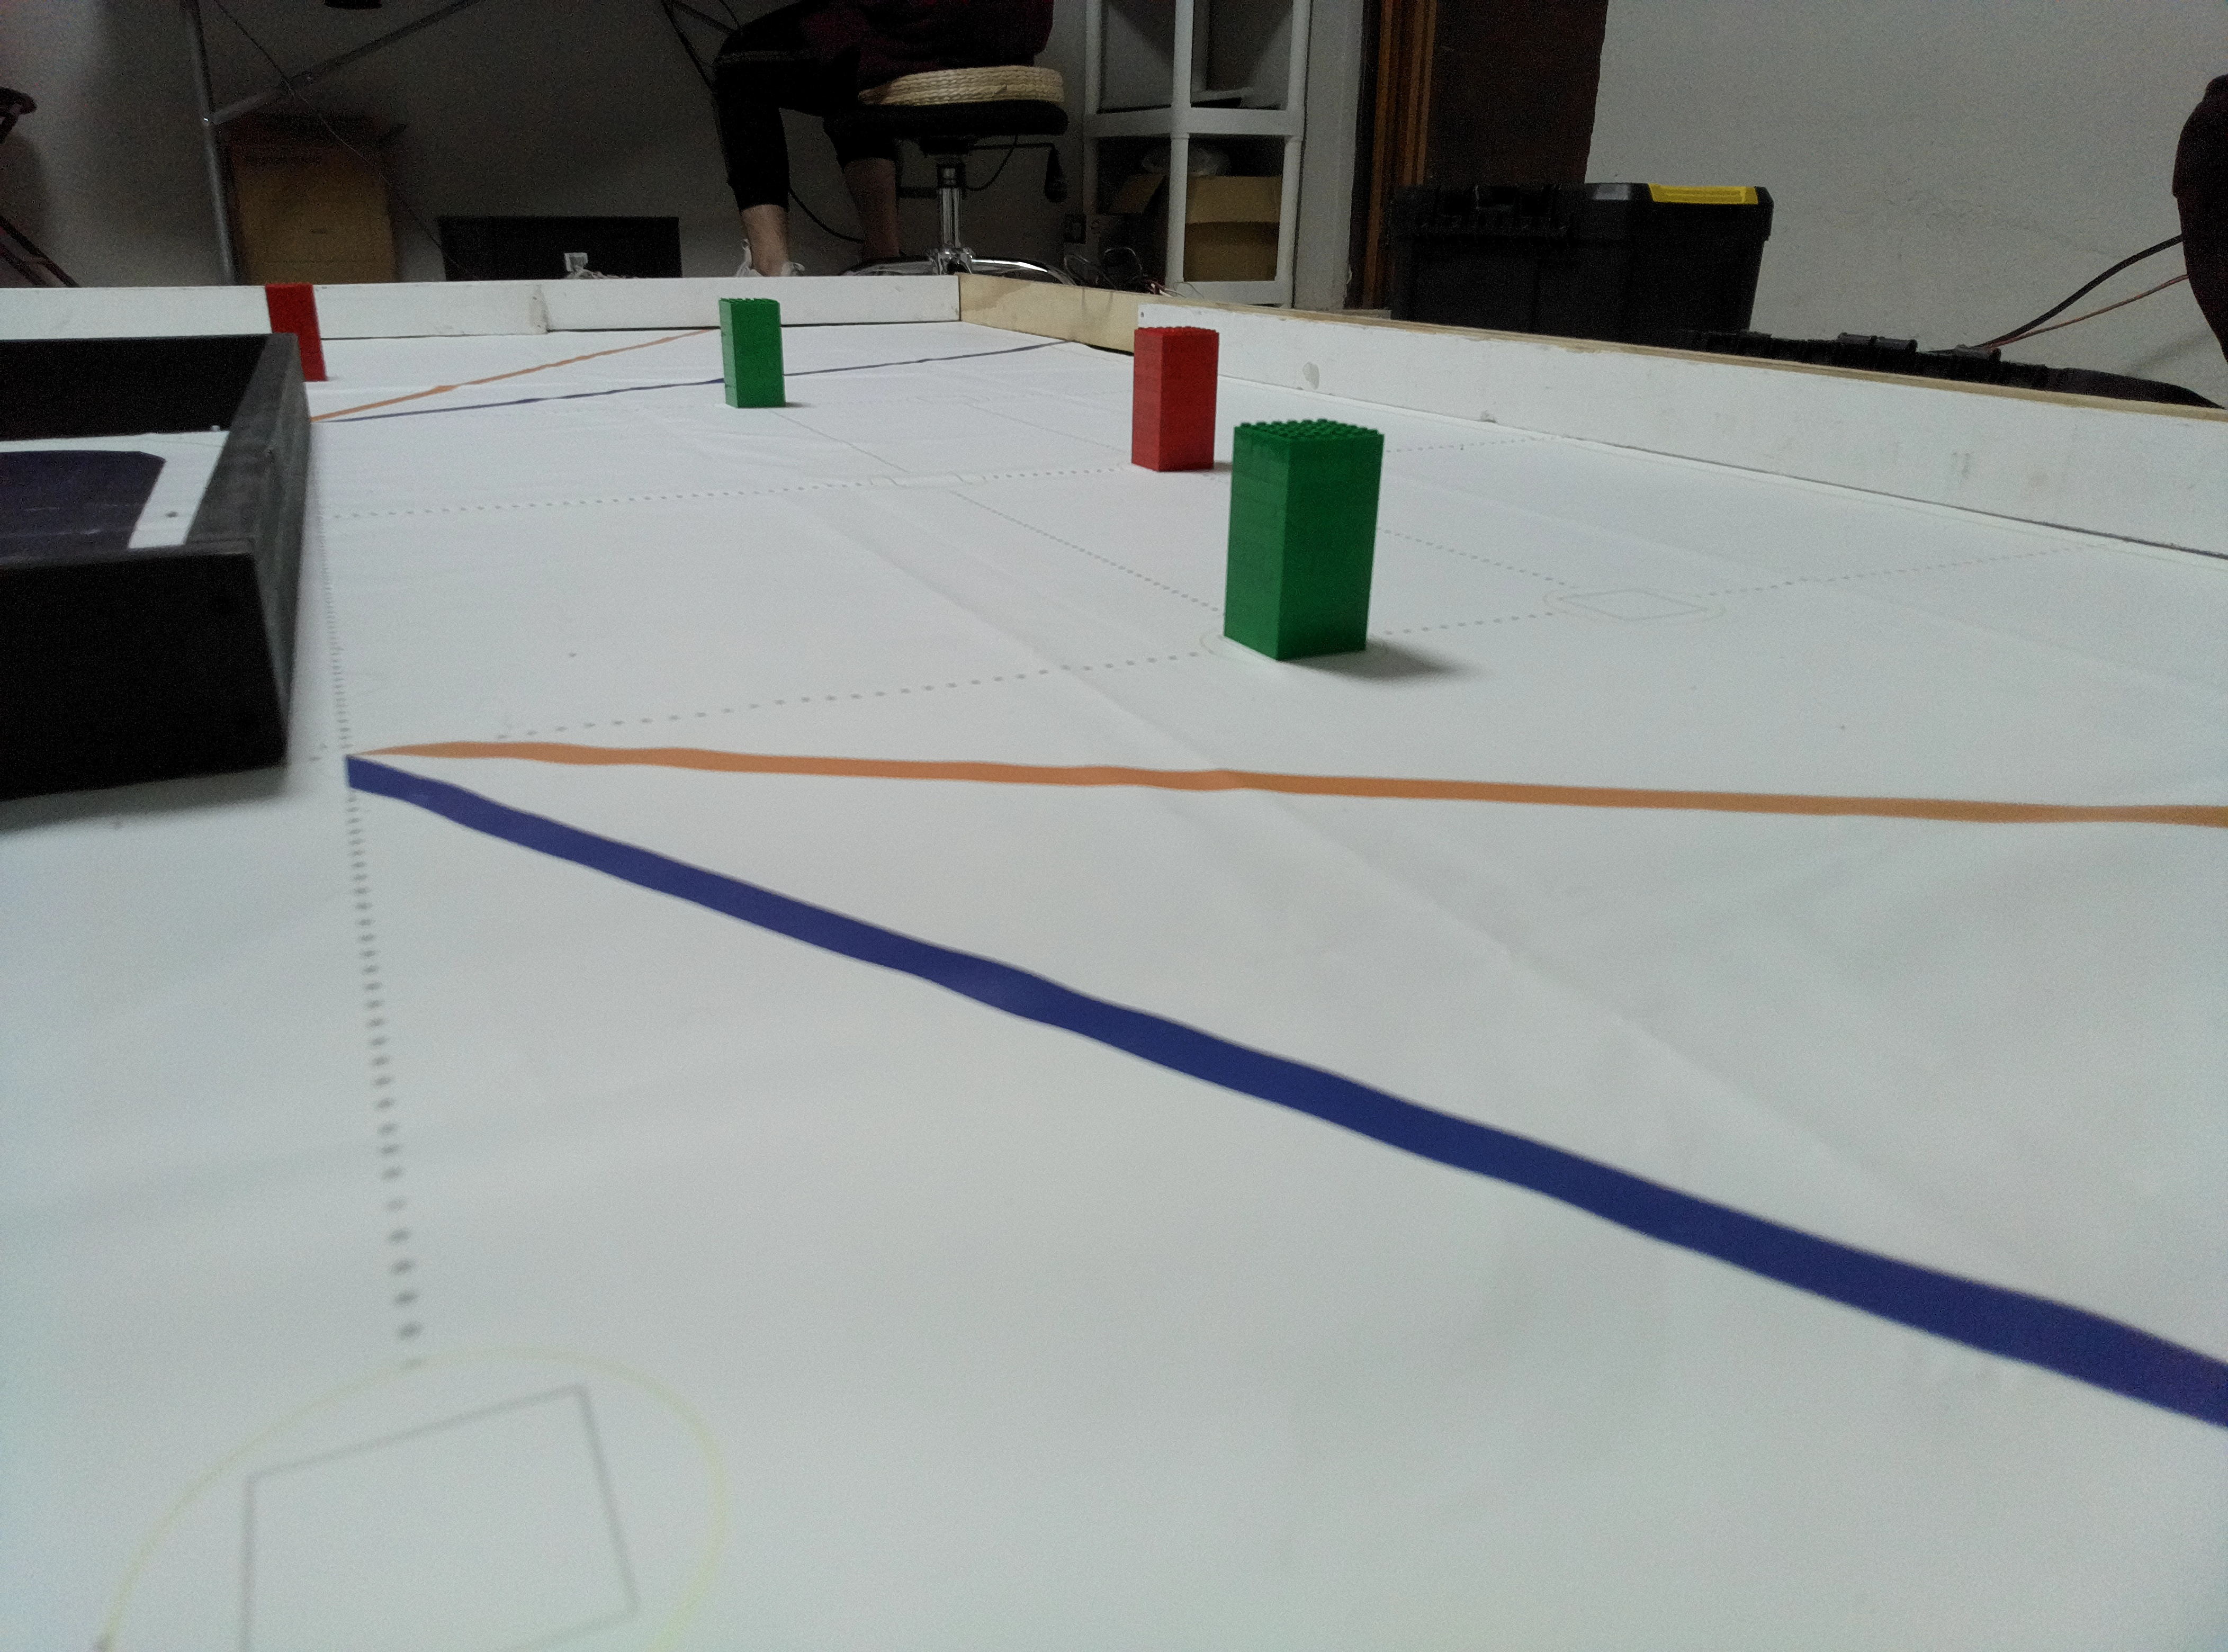greenbox: (1218, 420, 1378, 666), (722, 305, 783, 413)
redbox: (1131, 323, 1218, 469), (259, 278, 323, 382)
